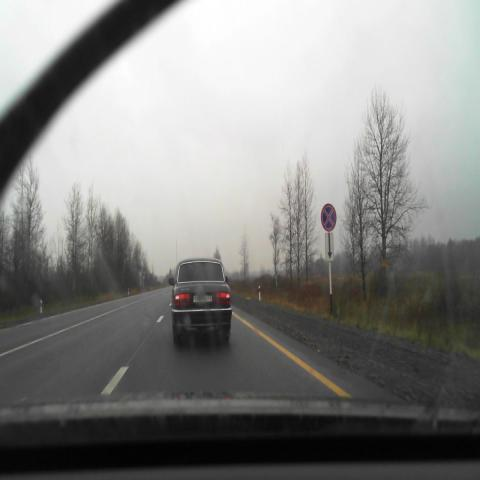8_2_3: (325, 232, 333, 260)
